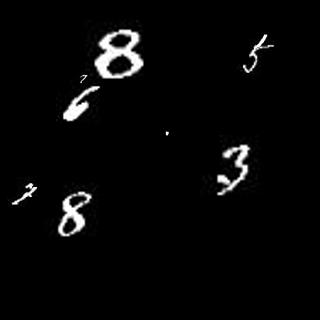dot: (161, 128, 171, 137)
eight: (91, 24, 148, 79), (55, 184, 99, 238)
five: (238, 45, 275, 76)
one: (257, 30, 269, 46)
seven: (22, 179, 39, 201), (78, 69, 89, 82)
six: (59, 86, 104, 126)
three: (217, 144, 256, 197)
